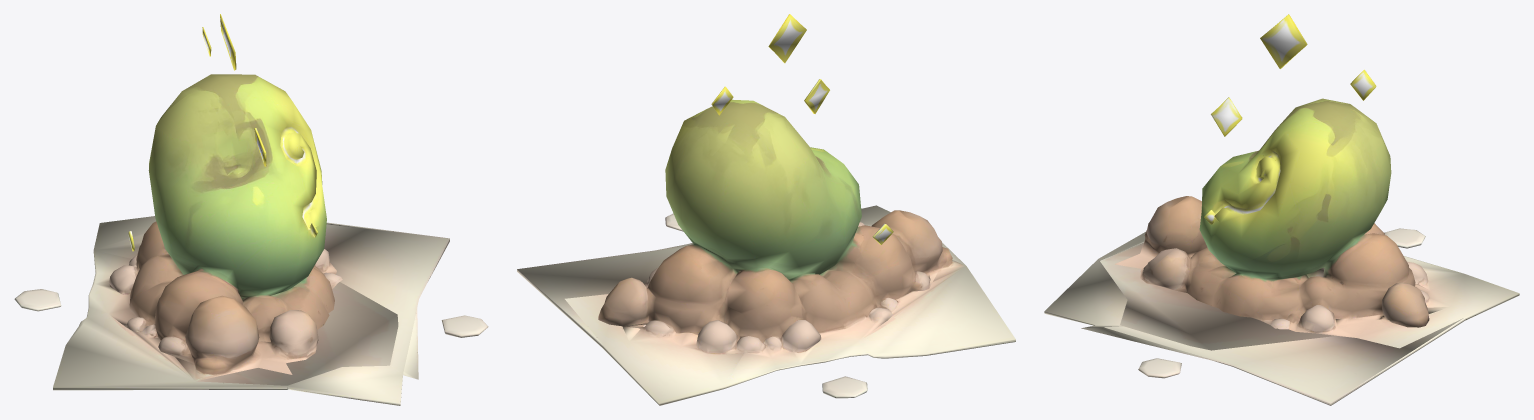
The picture shows the model from 3 angles, left to right: view 1: azimuth 30°, elevation 25°; view 2: azimuth 150°, elevation 25°; view 3: azimuth 270°, elevation 25°; orthographic projection. The views are drawn at different scales.
Parts seen in each view (by area): view 1: tripo_node_5226bba0-1d3e-448b-b932-731acd2f40f3; view 2: tripo_node_5226bba0-1d3e-448b-b932-731acd2f40f3; view 3: tripo_node_5226bba0-1d3e-448b-b932-731acd2f40f3.
Boxes of the visible parts, <box> form: tripo_node_5226bba0-1d3e-448b-b932-731acd2f40f3: <box>14,14,488,405</box>; tripo_node_5226bba0-1d3e-448b-b932-731acd2f40f3: <box>517,14,1015,405</box>; tripo_node_5226bba0-1d3e-448b-b932-731acd2f40f3: <box>1044,14,1519,405</box>.
Bounding box in the file's own units: 1 × 0.6477 × 1.
Materials: 1 (1 with a texture image).
